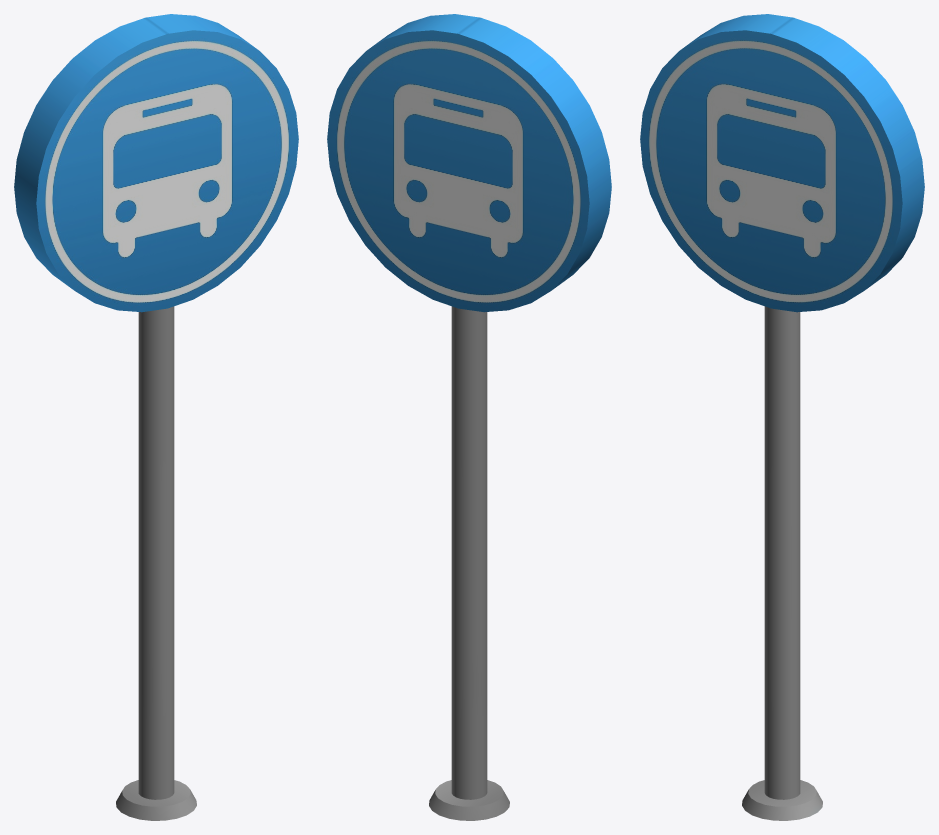
The model's file is bus-stop.glb.
The picture shows the model from 3 angles, left to right: view 1: azimuth 30°, elevation 25°; view 2: azimuth 150°, elevation 25°; view 3: azimuth 330°, elevation 25°; orthographic projection.
Parts seen in each view (by area): view 1: Sign_0; view 2: Sign_0; view 3: Sign_0.
Boxes of the visible parts, left/top/right/bottom form: Sign_0: left=14, top=14, right=298, bottom=820; Sign_0: left=327, top=14, right=611, bottom=820; Sign_0: left=640, top=14, right=924, bottom=820.
Size of the model in its own units: 14.98 by 42.41 by 4.04.
1 material, 1 textured.
